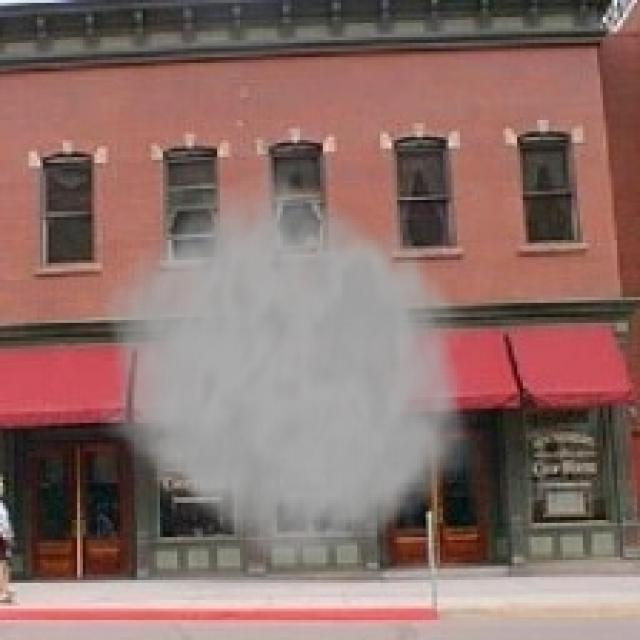smoke: (100, 160, 486, 580)
